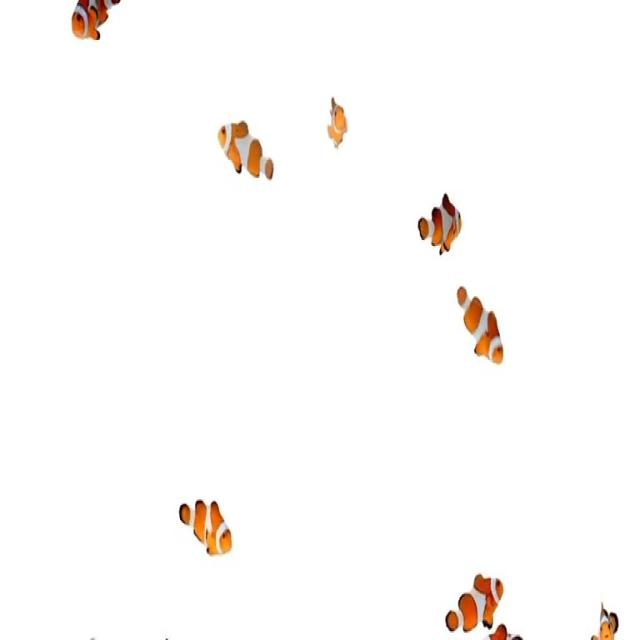fish: (456, 280, 504, 370), (442, 567, 506, 632), (214, 120, 274, 183), (176, 493, 232, 558), (418, 195, 463, 259), (70, 0, 124, 43), (326, 93, 349, 153)
